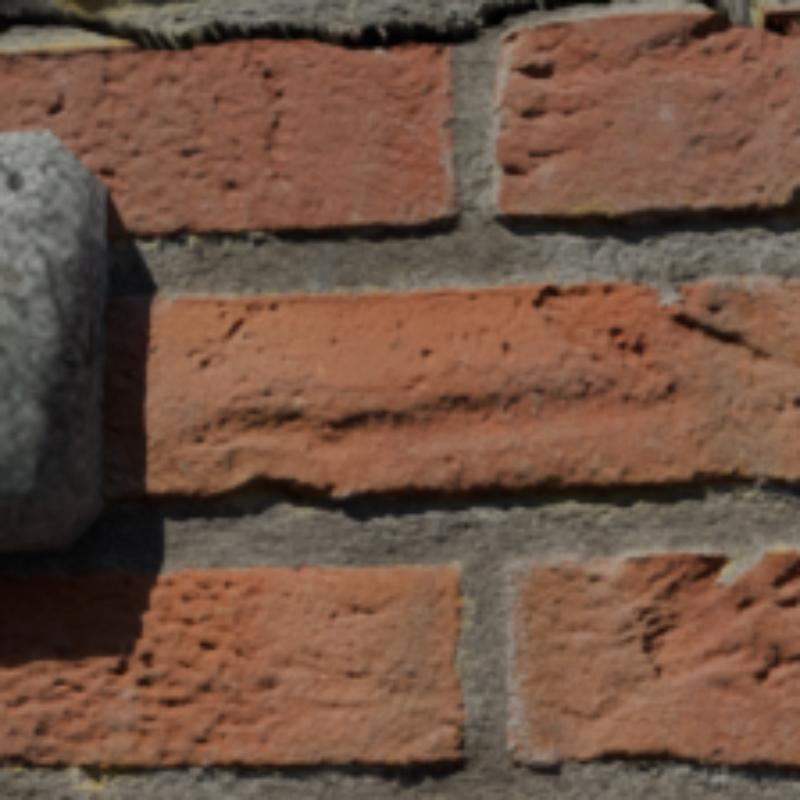pothole: (1, 2, 609, 49)
